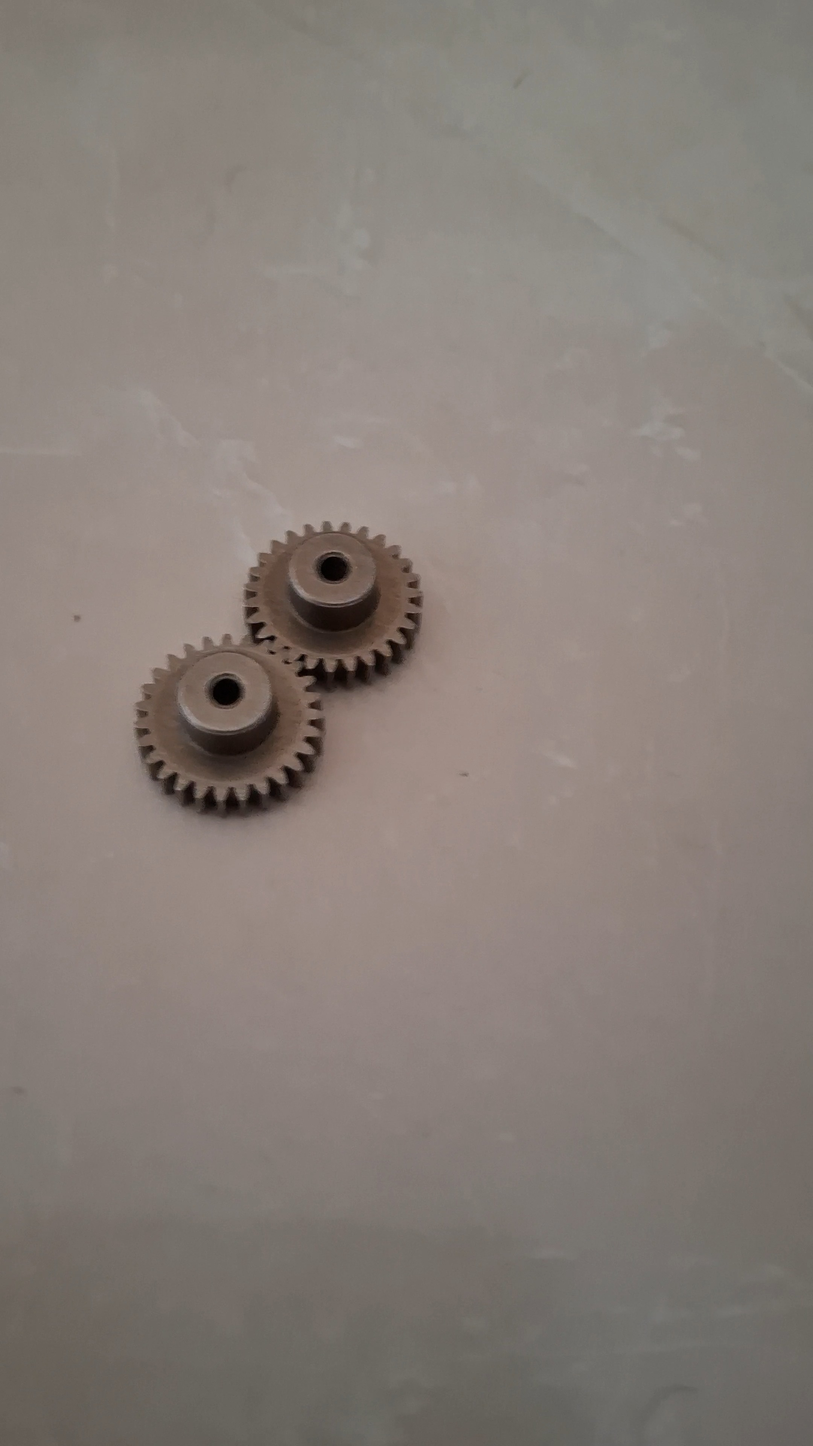spur gear: (111, 620, 303, 796), (227, 509, 406, 665)
